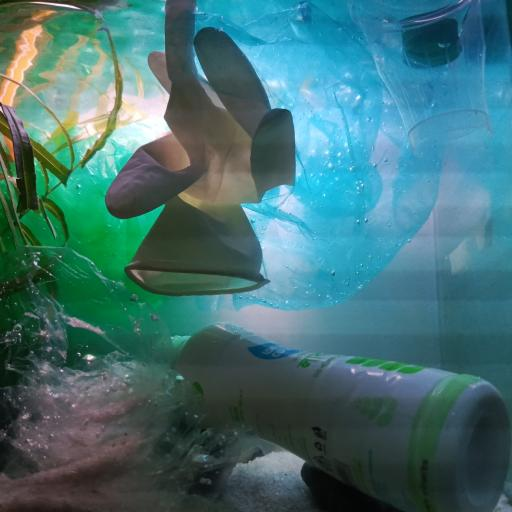bottle_cap: (401, 22, 463, 67)
glove: (105, 0, 297, 296)
plastic_bag: (156, 0, 512, 312), (0, 243, 246, 511), (2, 130, 213, 350)
plastic_bottle: (158, 322, 511, 512)
plastic_cup: (354, 0, 495, 161)
